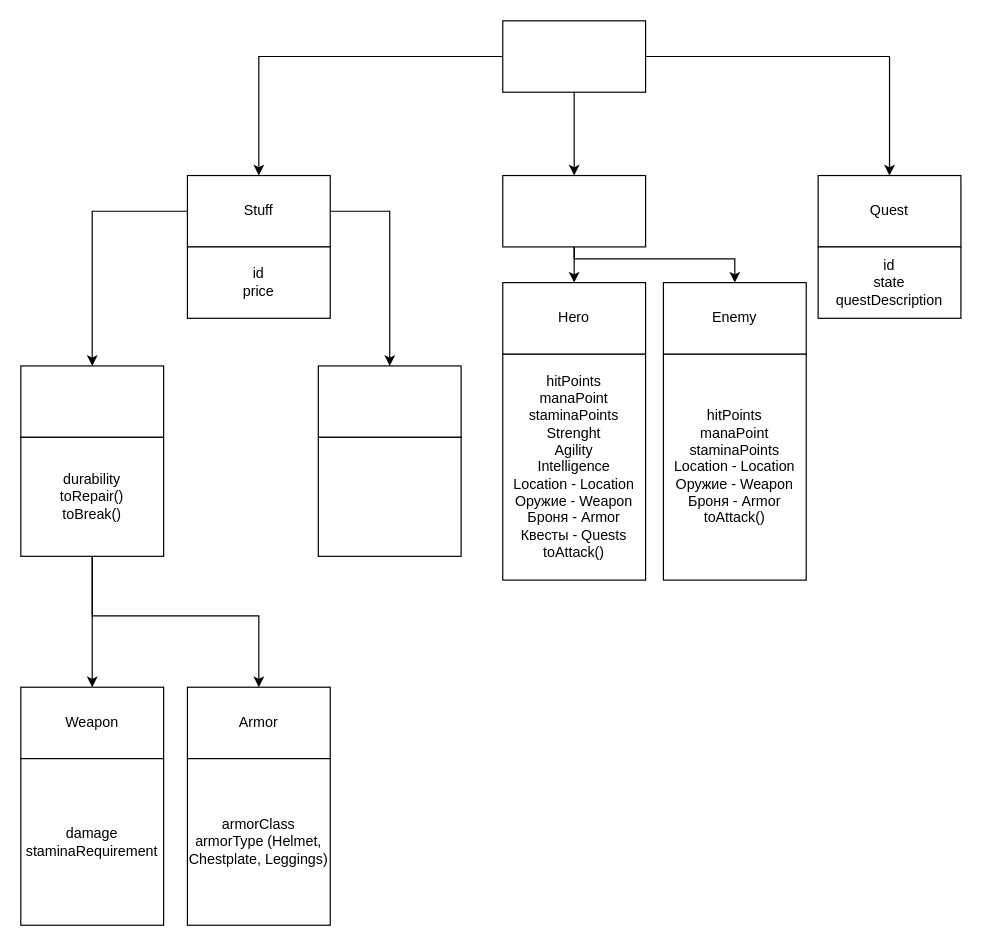
The diagram is 982 pixels wide and 946 high, and some of its shapes have lost their labels. Here are the shapes that lost their labels. From the top down, the centre of each, then its label:
At (x=574, y=56): "The Game".
At (x=574, y=210): "Creature".
At (x=92, y=401): "Equipement".
At (x=389, y=401): "Potion".
